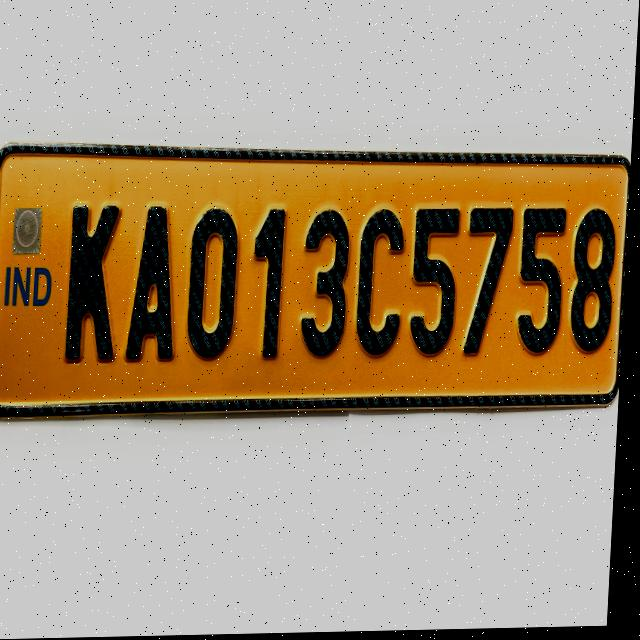plate: (0, 137, 634, 443)
